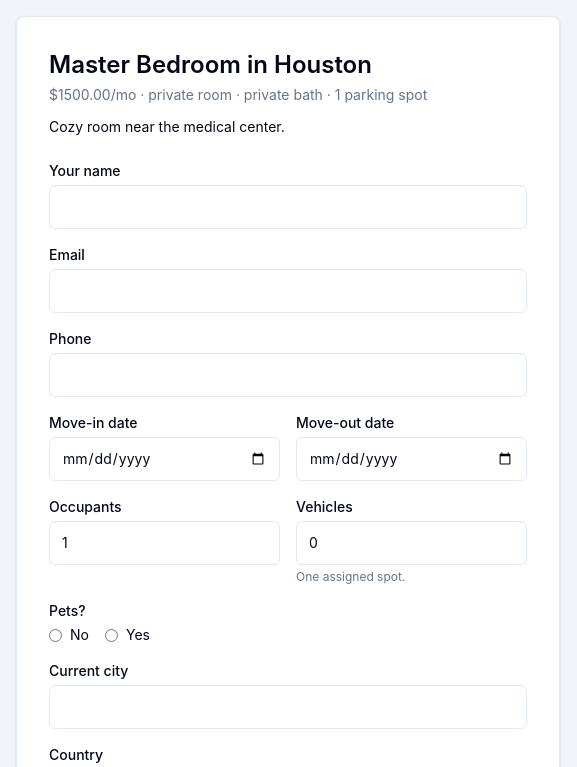
Test: PublicInquiryForm — validation UX › shows an inline error on blur with invalid input
In the field with test id "public-inquiry-email": (288, 291) [49, 269, 527, 313], type "not-an-email"
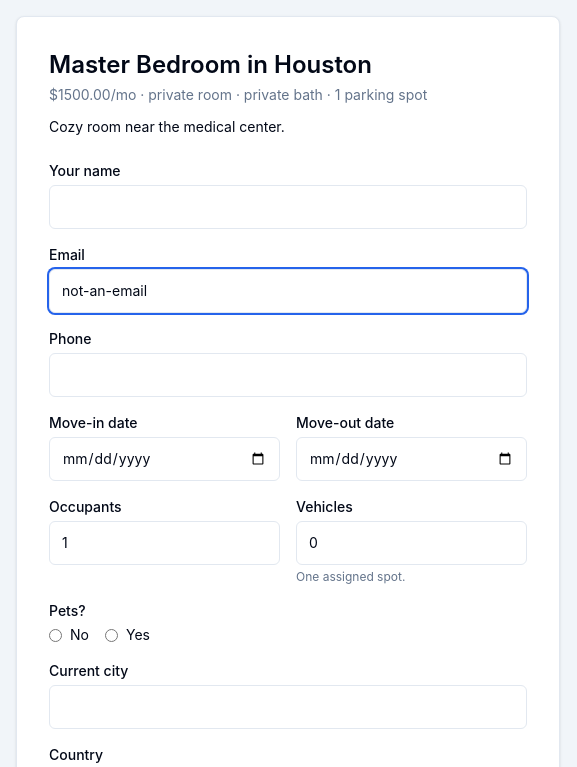
Press Tab
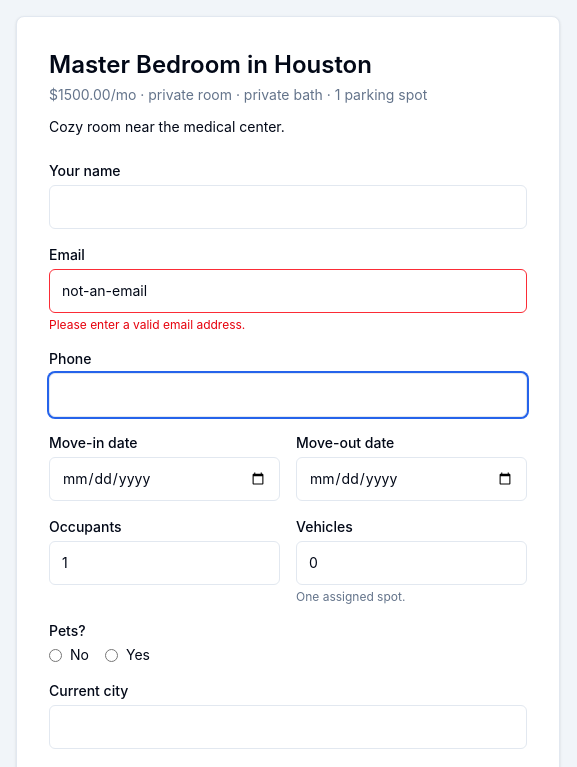
Check: the message with test id "public-inquiry-email-error" shows "valid email address", box [49, 317, 245, 332]
